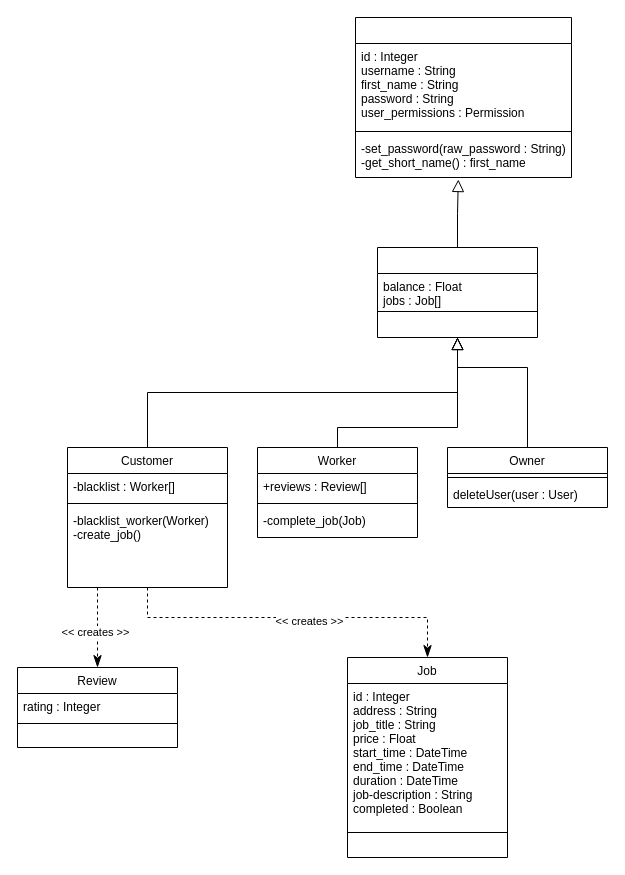
This 625x875 diagram has some shape labels left out. Here are the shapes that lost their labels. From the top down, the box of each, then its label:
(354, 16, 572, 178): Abstract User
(376, 246, 538, 338): User
